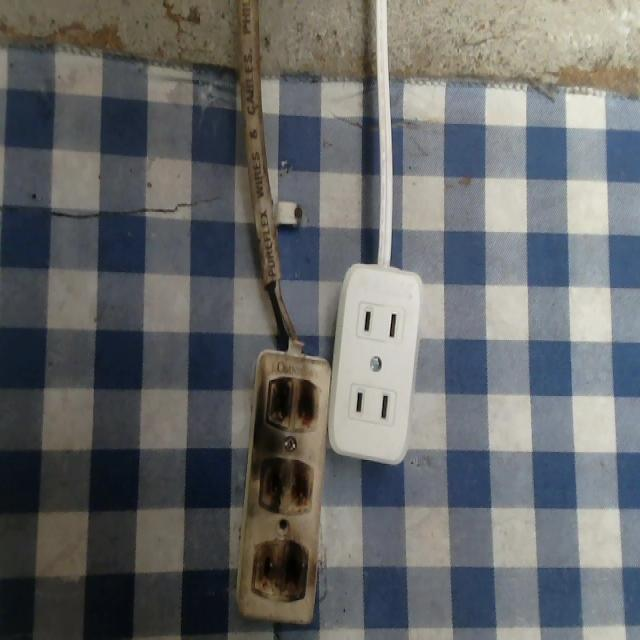-: (260, 367, 324, 437), (253, 452, 316, 520), (247, 535, 308, 600)
